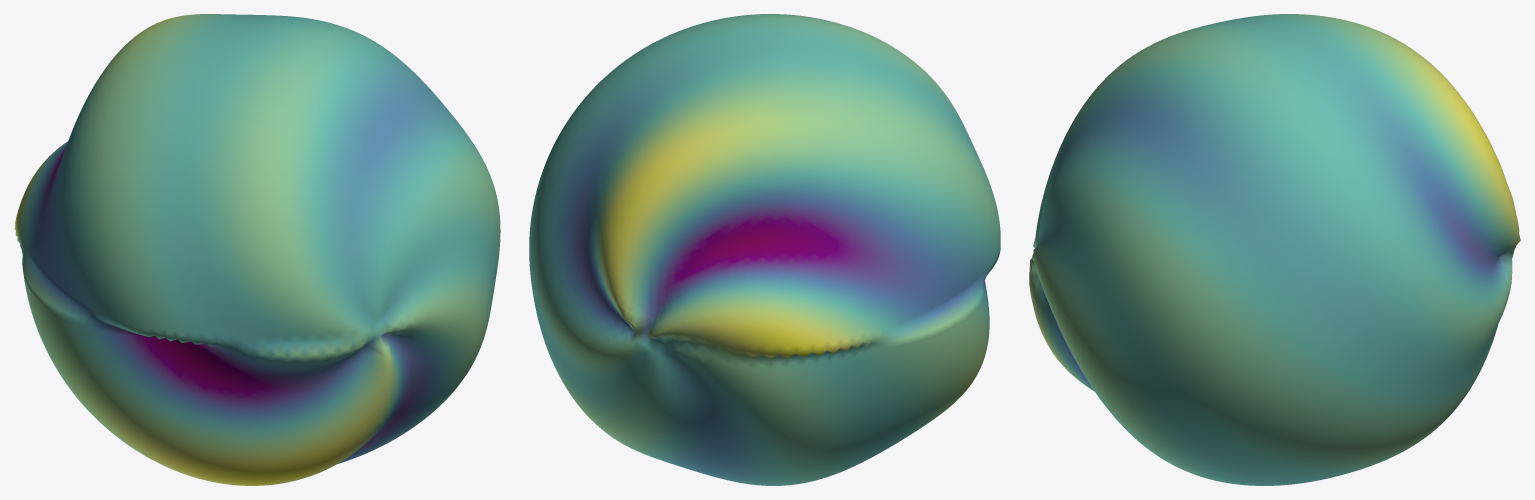
The model's file is sphere_frame_0013.glb.
3 renders of one model, left to right at view 1: azimuth 30°, elevation 25°; view 2: azimuth 150°, elevation 25°; view 3: azimuth 270°, elevation 25°, orthographic.
Parts seen in each view (by area): view 1: world; view 2: world; view 3: world.
Boxes of the visible parts, left/top/right/bottom form: world: left=14, top=14, right=500, bottom=485; world: left=529, top=14, right=1000, bottom=485; world: left=1029, top=14, right=1520, bottom=485.
Bounding box in the file's own units: 2.18 × 2.15 × 2.24.
